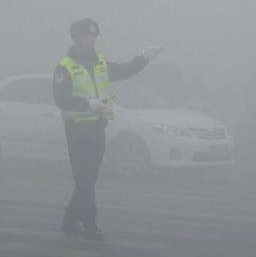person: (51, 18, 164, 242)
